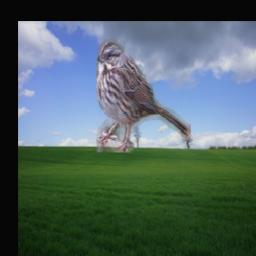Sparrow: (96, 39, 191, 152)
